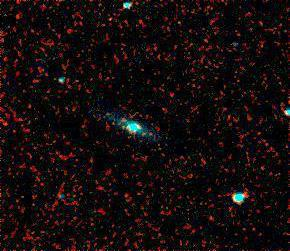star: (196, 203, 226, 233)
